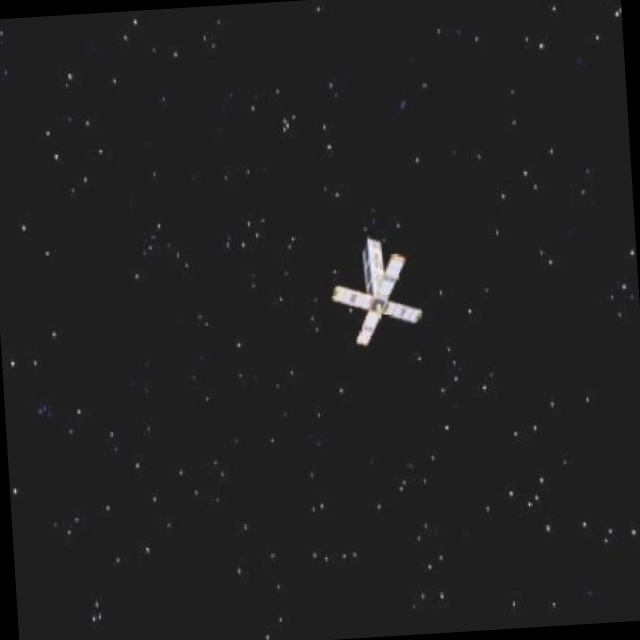satellite: (312, 222, 437, 354)
